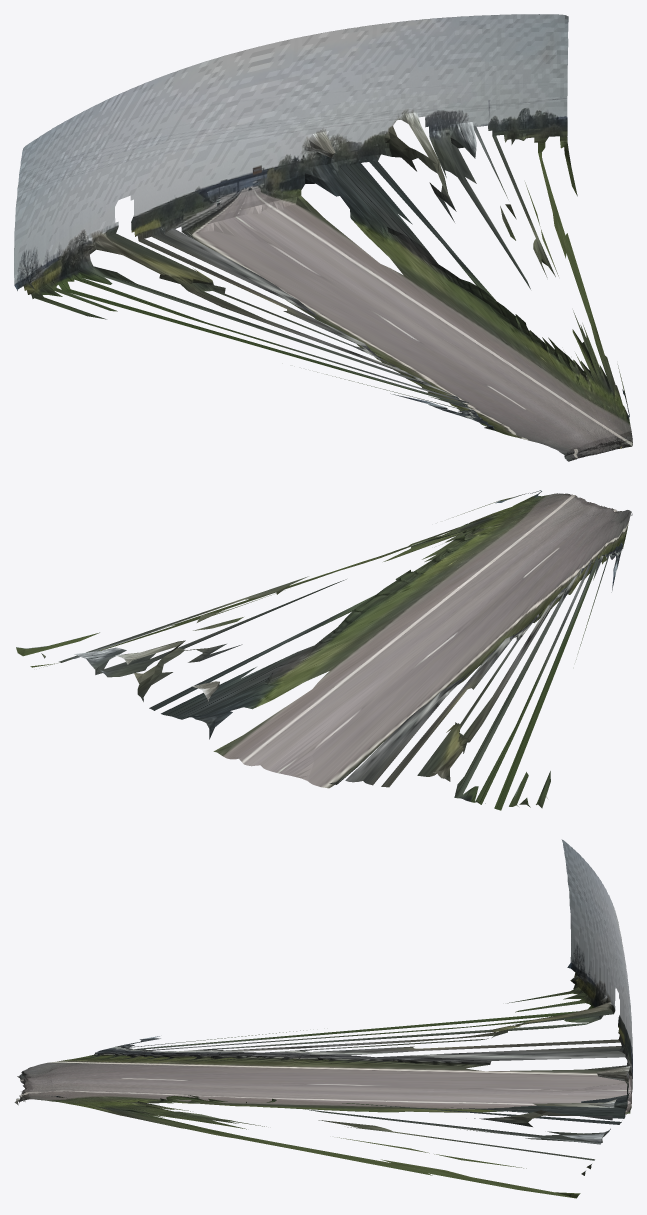
3 views of the same model, one above another, from view 1: azimuth 30°, elevation 25°; view 2: azimuth 150°, elevation 25°; view 3: azimuth 270°, elevation 25° (orthographic). The views are drawn at different scales.
Visible parts, largest first — view 1: defaultobject; view 2: defaultobject; view 3: defaultobject.
Part boxes in pixels (x1=…): defaultobject: x1=14, y1=14, x2=632, y2=461; defaultobject: x1=16, y1=490, x2=632, y2=810; defaultobject: x1=14, y1=839, x2=632, y2=1198.
Bounding box in the file's own units: 41.14 × 12.62 × 44.7.
1 material, 1 textured.
